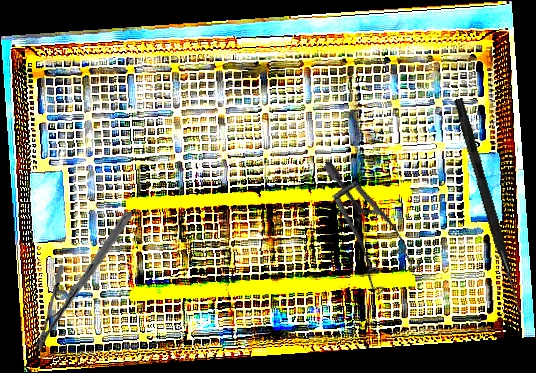Hook Surgical: (450, 97, 529, 317)
Needle Holder: (34, 204, 133, 357)
Speculum: (281, 161, 442, 306)
